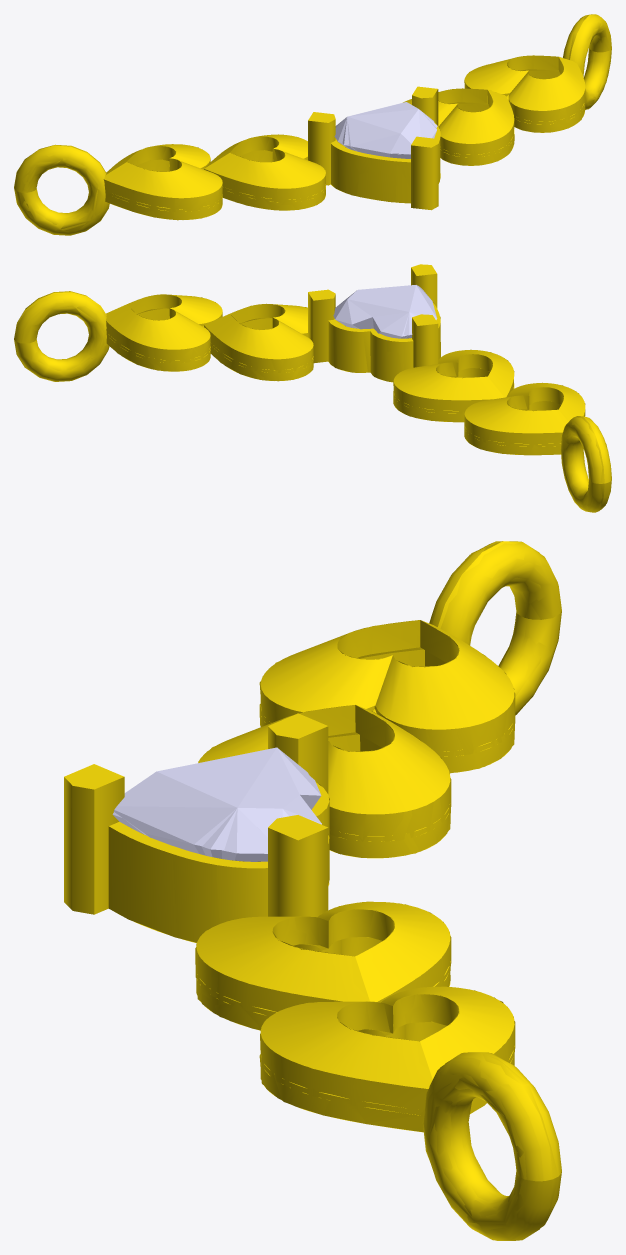
The model's file is DCP-D000587372.glb.
The picture shows the model from 3 angles, top to bottom: view 1: azimuth 30°, elevation 25°; view 2: azimuth 150°, elevation 25°; view 3: azimuth 270°, elevation 25°; orthographic projection. The views are drawn at different scales.
Visible parts, largest first — view 1: highPolyMesh, lowPolyMesh; view 2: highPolyMesh, lowPolyMesh; view 3: highPolyMesh, lowPolyMesh.
Part boxes in pixels (box(x1,y1,x2,y2)): highPolyMesh: box(14, 14, 610, 235); lowPolyMesh: box(14, 14, 611, 235); highPolyMesh: box(14, 274, 611, 512); lowPolyMesh: box(14, 264, 611, 512); highPolyMesh: box(64, 541, 561, 1240); lowPolyMesh: box(64, 541, 561, 1240).
Bounding box in the file's own units: 0.0227 × 0.0037 × 0.00822.
